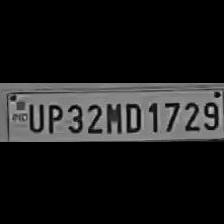1: (143, 98, 161, 132)
2: (84, 99, 104, 133), (180, 97, 200, 131)
3: (64, 99, 82, 133)
7: (159, 97, 179, 131)
9: (200, 96, 218, 130)
D: (122, 99, 142, 134)
M: (102, 99, 122, 134)
P: (45, 99, 63, 133)
U: (24, 100, 43, 132)
